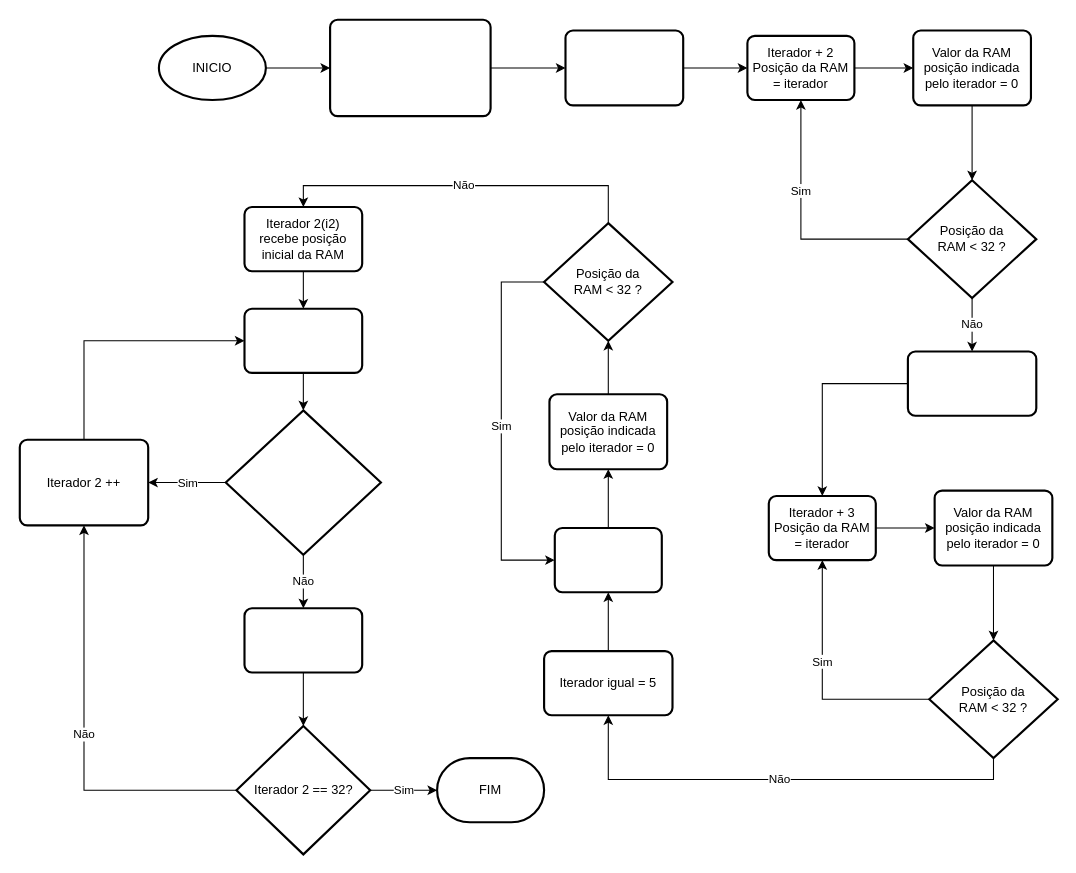
This 1076x873 diagram has some shape labels left out. The centre of each missing label's shape, as x and y in pixels:
Copia valor do registrador para RAM[127]: the point at 303,640
Escreve na RAM os números 1 a 32 nas posições 1 a 32: the point at 409,67
Iterador + 5 Posição da RAM = iterador: the point at 607,559
Iterador igual = 2: the point at 624,67
Iterador igual = 3: the point at 971,383
Registrador recebe valor da RAM[i2]: the point at 303,340
Valor recebido pelo Registrador == 0?: the point at 302,482
